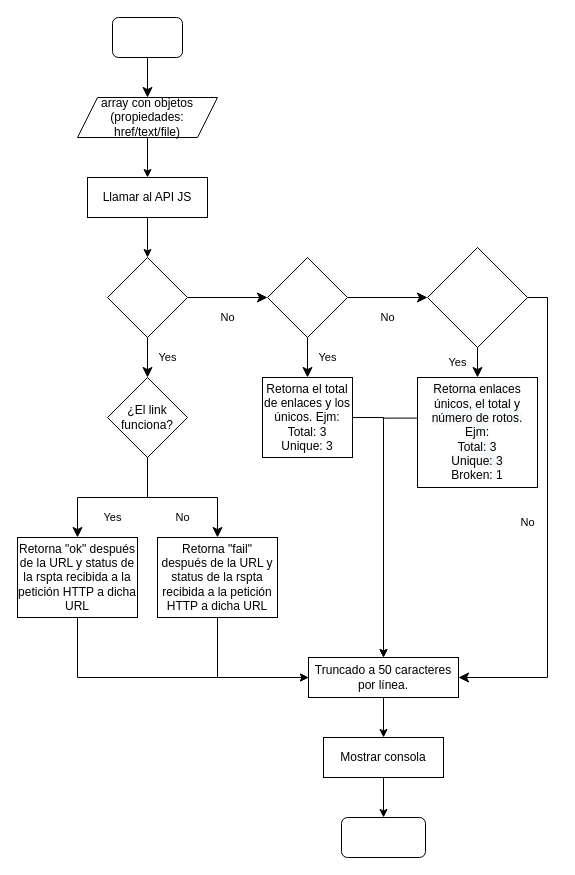
Some shapes in this 575 by 875 pixel diagram are drawn without their labels. Each missing label, with the centre of its shape:
"Fin" belongs at [383,837].
"Inicio" belongs at [147,37].
"¿Opción --stats y --validate?" belongs at [477,297].
"¿Opción --stats?" belongs at [307,297].
"¿Opción --validate?" belongs at [147,297].
